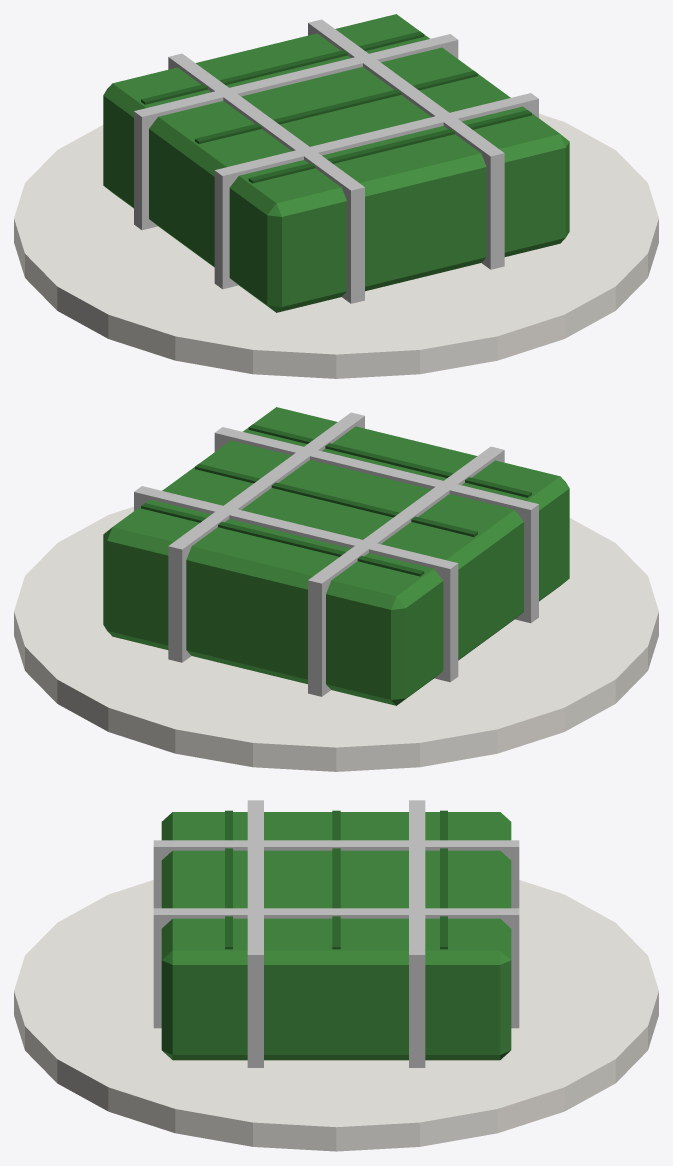
File: ev_banh_chung_v01.glb
3 renders of one model, top to bottom at view 1: azimuth 30°, elevation 25°; view 2: azimuth 150°, elevation 25°; view 3: azimuth 270°, elevation 25°, orthographic.
Parts seen in each view (by area): view 1: banh_chung; view 2: banh_chung; view 3: banh_chung.
Boxes of the visible parts, left/top/right/bottom form: banh_chung: left=14, top=14, right=658, bottom=378; banh_chung: left=14, top=407, right=658, bottom=771; banh_chung: left=14, top=800, right=658, bottom=1151.
Size of the model in its own units: 0.48 by 0.113 by 0.48.
